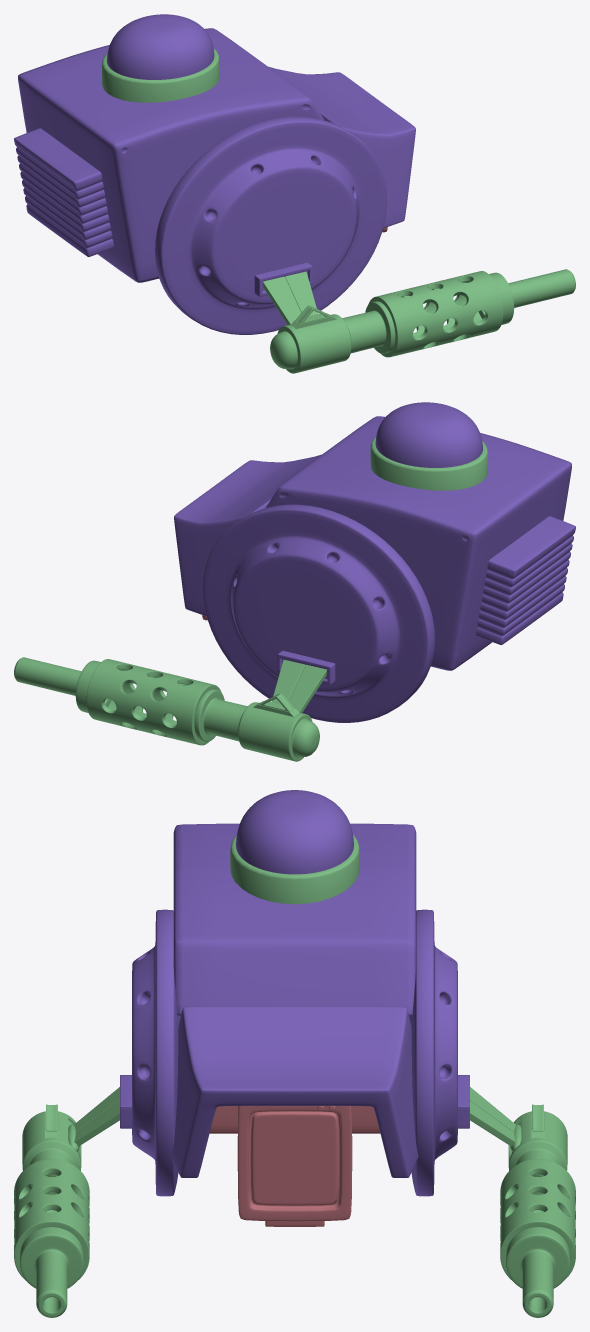
The model's file is droid.glb.
3 views of the same model, one above another, from view 1: azimuth 30°, elevation 25°; view 2: azimuth 150°, elevation 25°; view 3: azimuth 270°, elevation 25° (orthographic). The views are drawn at different scales.
Parts seen in each view (by area): view 1: Droid; view 2: Droid; view 3: Droid.
Part boxes in pixels (x1,y1,x2,y2): Droid: (14,14,575,373); Droid: (14,402,575,761); Droid: (14,790,575,1317).
Bounding box in the file's own units: 0.2246 × 0.145 × 0.2098.
